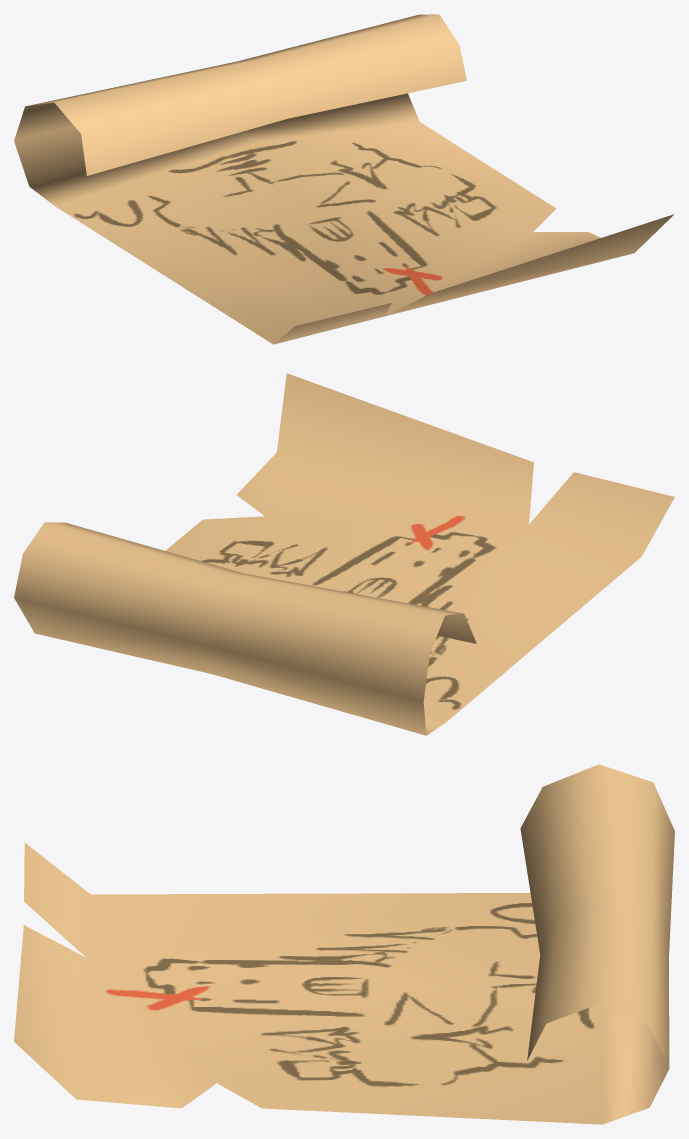
File: map.glb
The picture shows the model from 3 angles, top to bottom: view 1: azimuth 30°, elevation 25°; view 2: azimuth 150°, elevation 25°; view 3: azimuth 270°, elevation 25°; orthographic projection. The views are drawn at different scales.
Parts seen in each view (by area): view 1: mff_prop_map; view 2: mff_prop_map; view 3: mff_prop_map.
Boxes of the visible parts, box(x1,y1,x2,y2) form: mff_prop_map: box(14, 14, 674, 344); mff_prop_map: box(14, 373, 674, 735); mff_prop_map: box(14, 764, 674, 1124).
Bounding box in the file's own units: 0.3668 × 0.0972 × 0.4251.
Materials: 1 (1 with a texture image).
